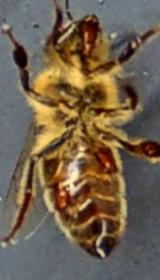varroa_mite: (84, 143, 124, 173), (47, 185, 83, 215)
